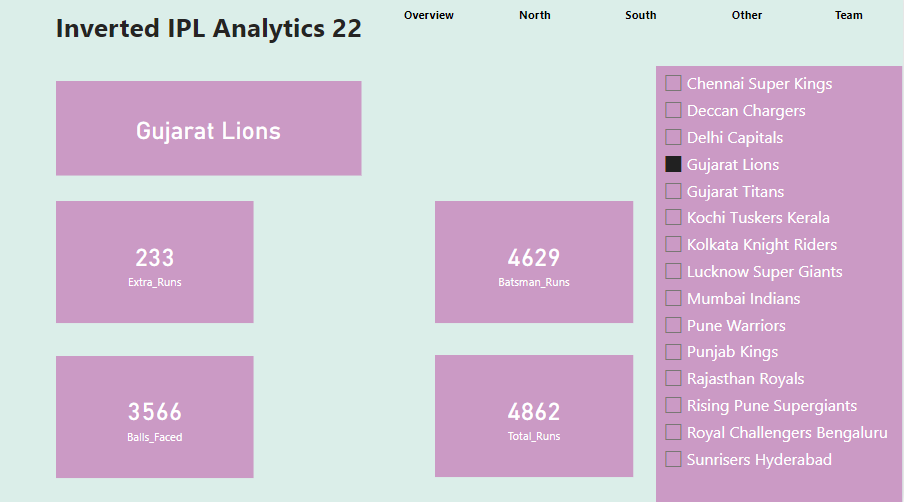

What the dashboard file says about the page in this screenshot:
{"tool":"powerbi","page":{"name":"Team","canvas":[1280,720],"ordinal":4},"visuals":[{"type":"slicer","fields":{"Values":["deliveries.batting_team"]},"box":[931.4,101.9,348.6,618.5],"z":0},{"type":"card","fields":{"Values":["Sum(deliveries.extra_runs)"]},"box":[80.4,293.2,280,173.4],"z":1000},{"type":"card","fields":{"Values":["Sum(deliveries.total_runs)"]},"box":[618.5,511.3,280.7,173.4],"z":2000},{"type":"card","fields":{"Values":["CountNonNull(deliveries.over)"]},"box":[80.4,513,280,173],"z":3000},{"type":"card","fields":{"Values":["Sum(deliveries.batsman_runs)"]},"box":[618.5,293.2,280.7,173.4],"z":4000},{"type":"card","fields":{"Values":["deliveries.Selected Team"]},"box":[80.4,123.4,432.6,134.1],"z":5000},{"type":"shape","box":[534.5,0,150.2,59],"z":6000},{"type":"shape","box":[684.7,0,150.2,59],"z":7000},{"type":"shape","box":[834.9,0,150.2,59],"z":8000},{"type":"shape","box":[985,0,150.2,59],"z":9000},{"type":"shape","box":[1129.8,0,150.2,59],"z":10000},{"type":"textbox","box":[51.8,16.1,500.6,85.8],"z":11000}]}

Visuals, with their boxes in screenshot pixels (x1, y1, x2, y2), scaled from the page's 1280x720 canvas onto the 904x502 screenshot:
slicer - deliveries.batting_team: [left=658, top=71, right=903, bottom=501]
card - Sum(deliveries.extra_runs): [left=57, top=204, right=255, bottom=325]
card - Sum(deliveries.total_runs): [left=437, top=356, right=635, bottom=477]
card - CountNonNull(deliveries.over): [left=57, top=358, right=255, bottom=478]
card - Sum(deliveries.batsman_runs): [left=437, top=204, right=635, bottom=325]
card - deliveries.Selected Team: [left=57, top=86, right=362, bottom=180]
shape: [left=377, top=0, right=484, bottom=41]
shape: [left=484, top=0, right=590, bottom=41]
shape: [left=590, top=0, right=696, bottom=41]
shape: [left=696, top=0, right=802, bottom=41]
shape: [left=798, top=0, right=903, bottom=41]
textbox: [left=37, top=11, right=390, bottom=71]
